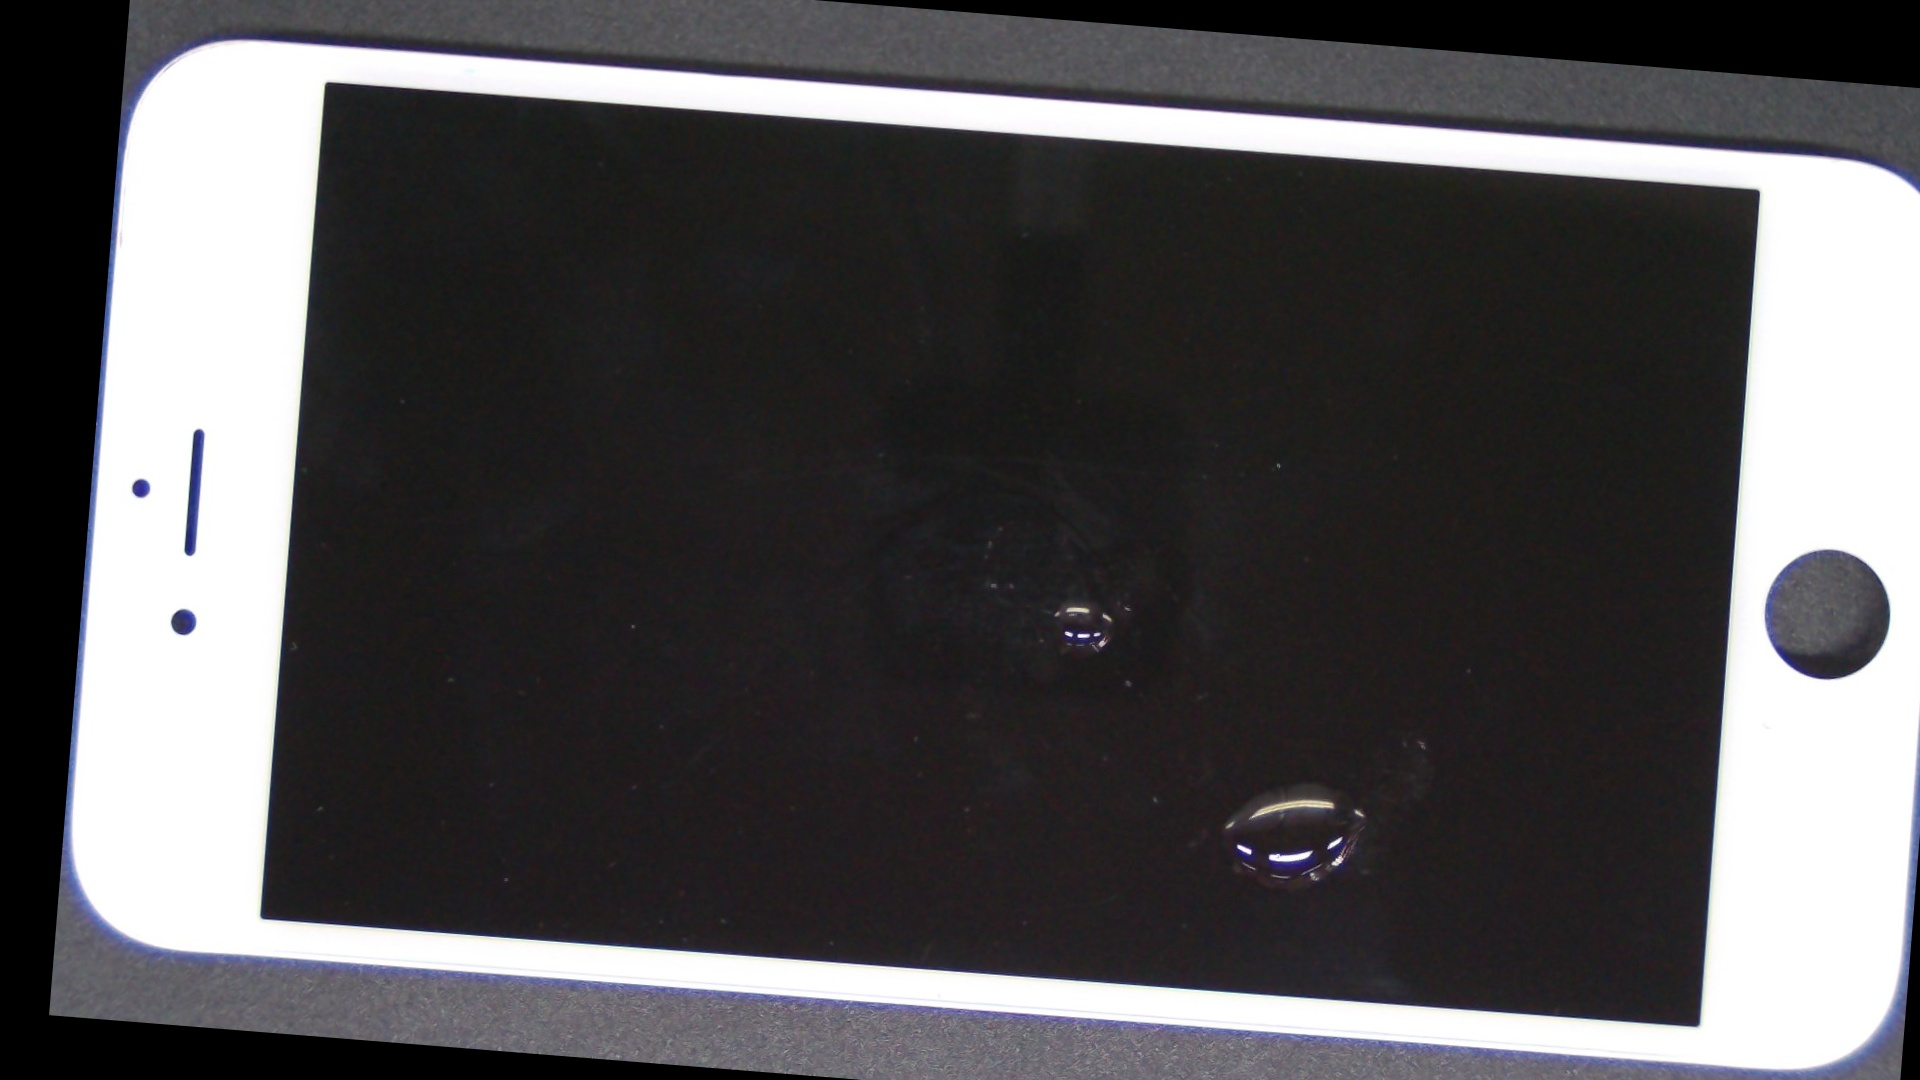oil: (666, 364, 1920, 1080), (563, 274, 1602, 931)
